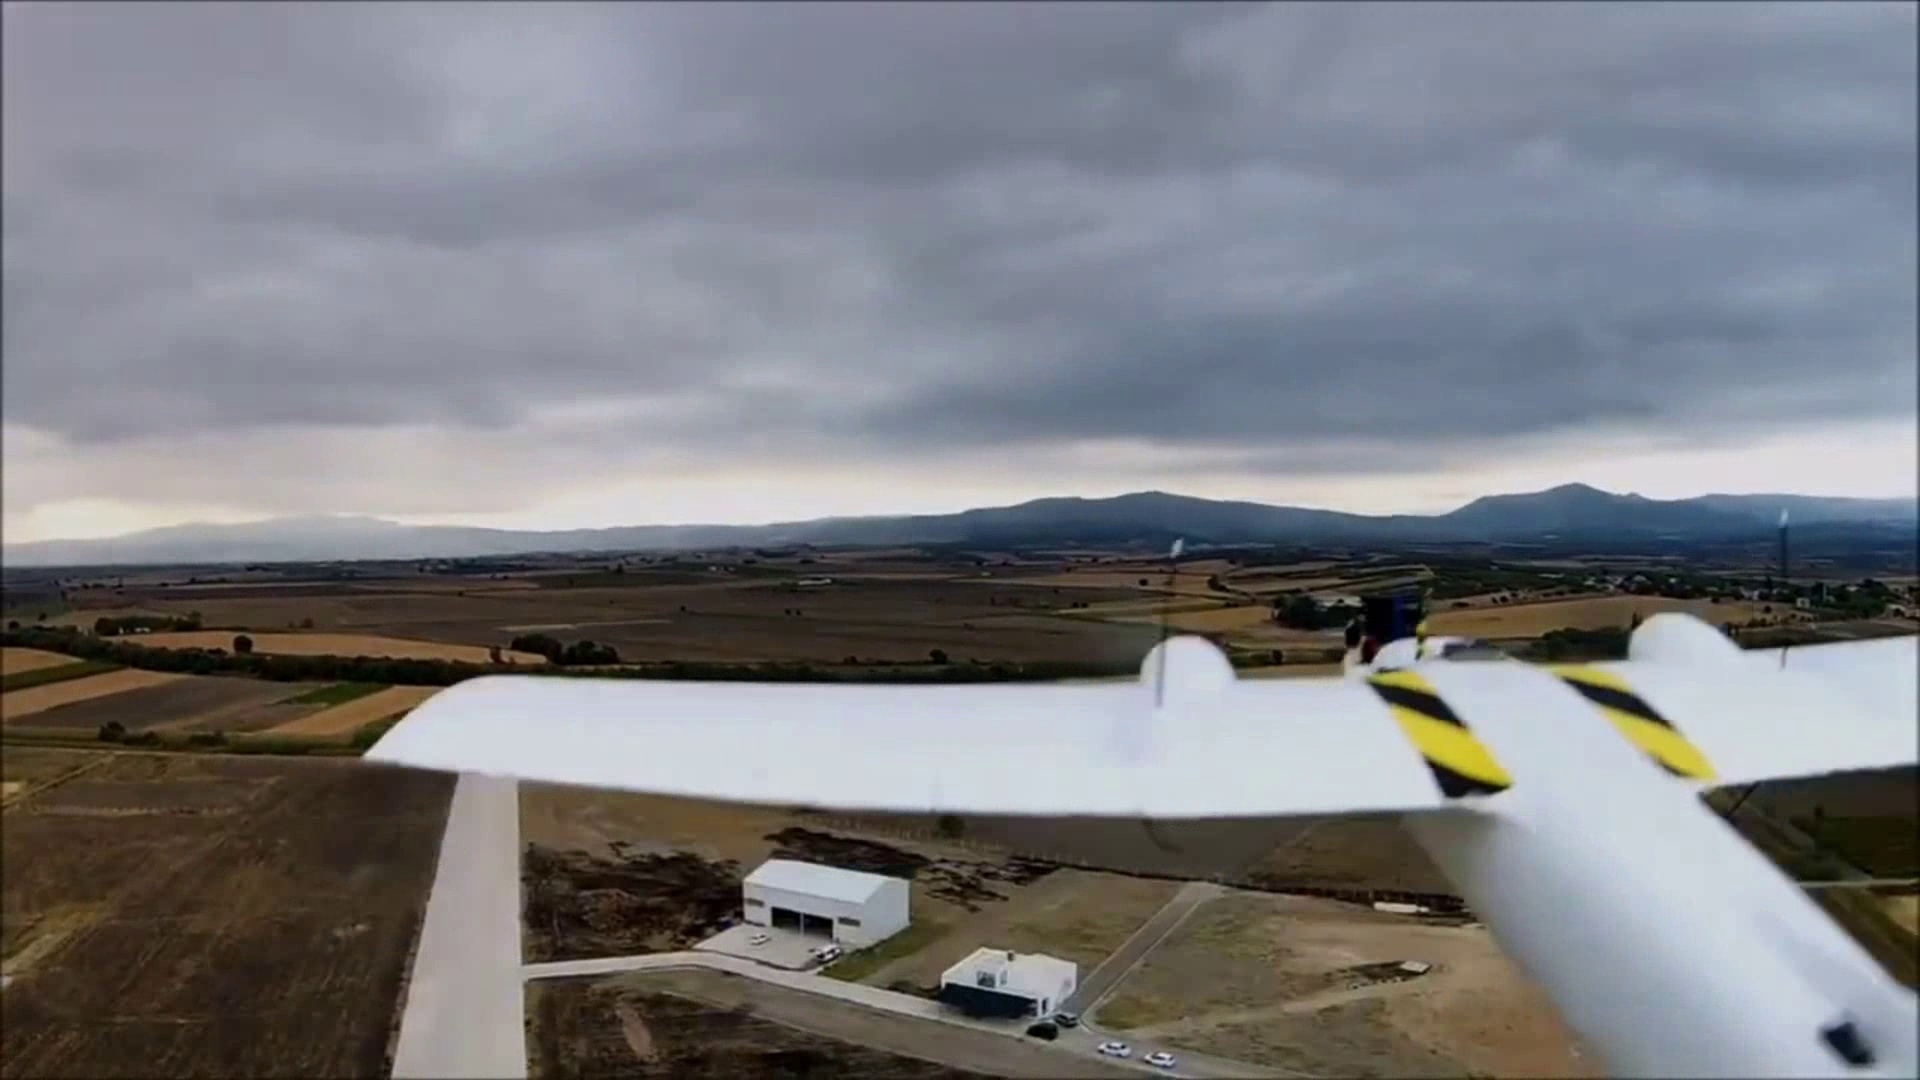airplane: (135, 630, 1915, 1068)
